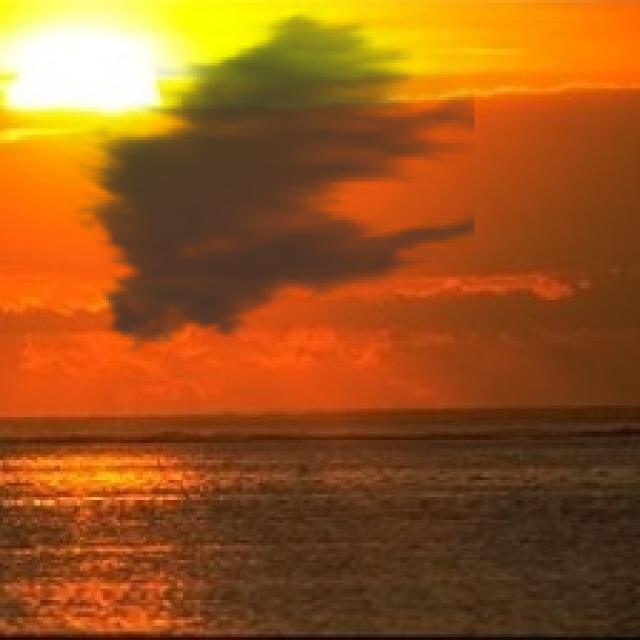Smoke: (68, 3, 474, 363)
